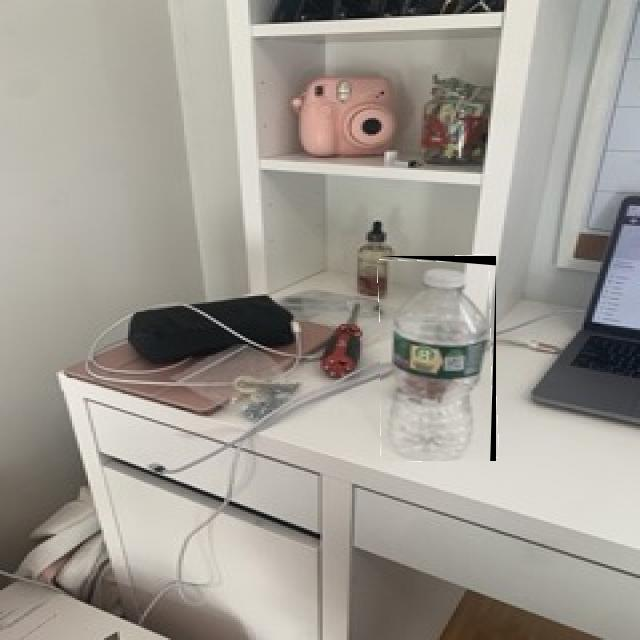water_bottle: (380, 256, 496, 461)
